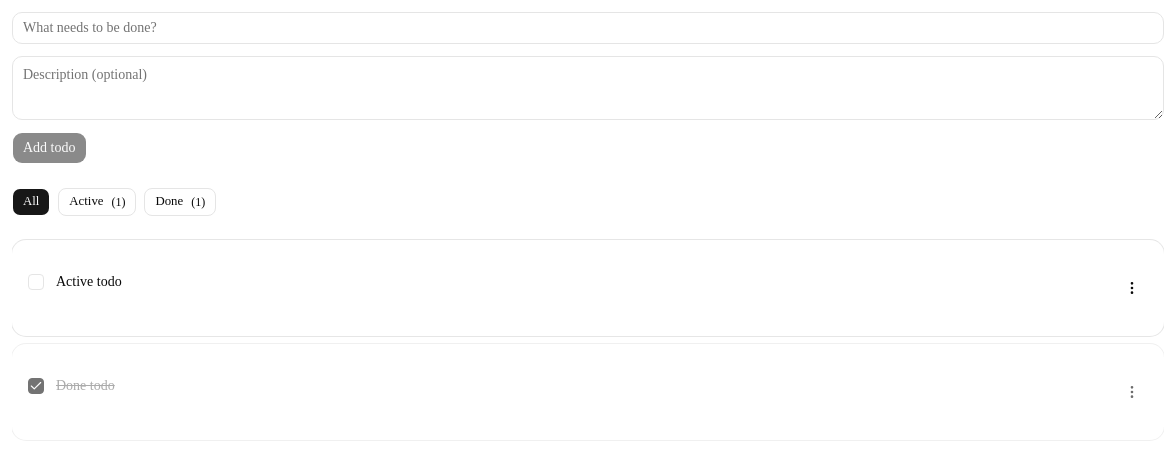
Test: TodoList › filters by active
Check: the text "Active todo" is shown, box [56,274,122,289]
Click the button "Active (1)" at (97, 202), box [58,188,136,216]
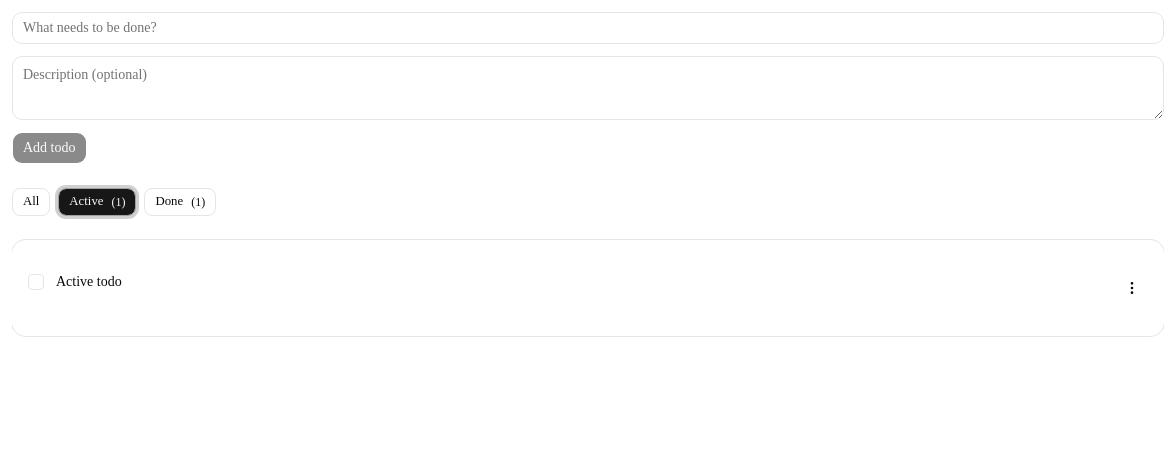
Check: the text "Active todo" is shown, box [56,274,122,289]
Check: the text "Done todo" is gone
